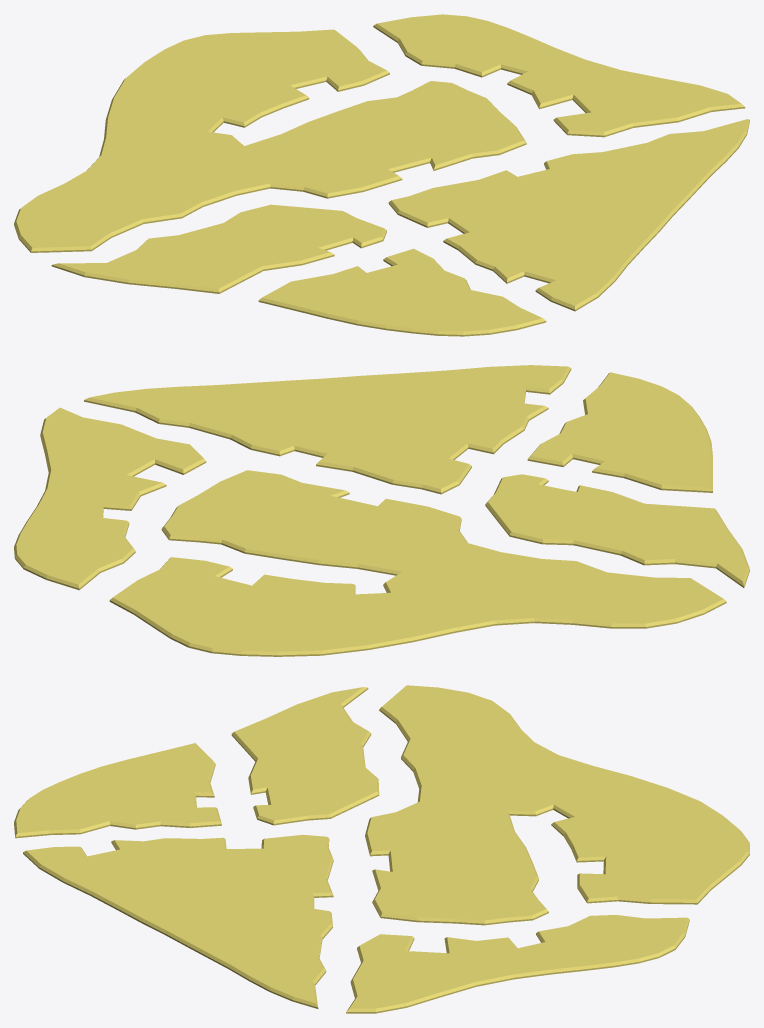
File: Grass.fbx
3 views of the same model, one above another, from view 1: azimuth 30°, elevation 25°; view 2: azimuth 150°, elevation 25°; view 3: azimuth 270°, elevation 25° (orthographic). The views are drawn at different scales.
Parts seen in each view (by area): view 1: Cylinder.001; view 2: Cylinder.001; view 3: Cylinder.001.
Boxes of the visible parts, box(x1,y1,x2,y2) form: Cylinder.001: box(14, 14, 749, 336); Cylinder.001: box(14, 365, 749, 656); Cylinder.001: box(14, 685, 749, 1013).
Size of the model in its own units: 2937 by 16.69 by 2806.
